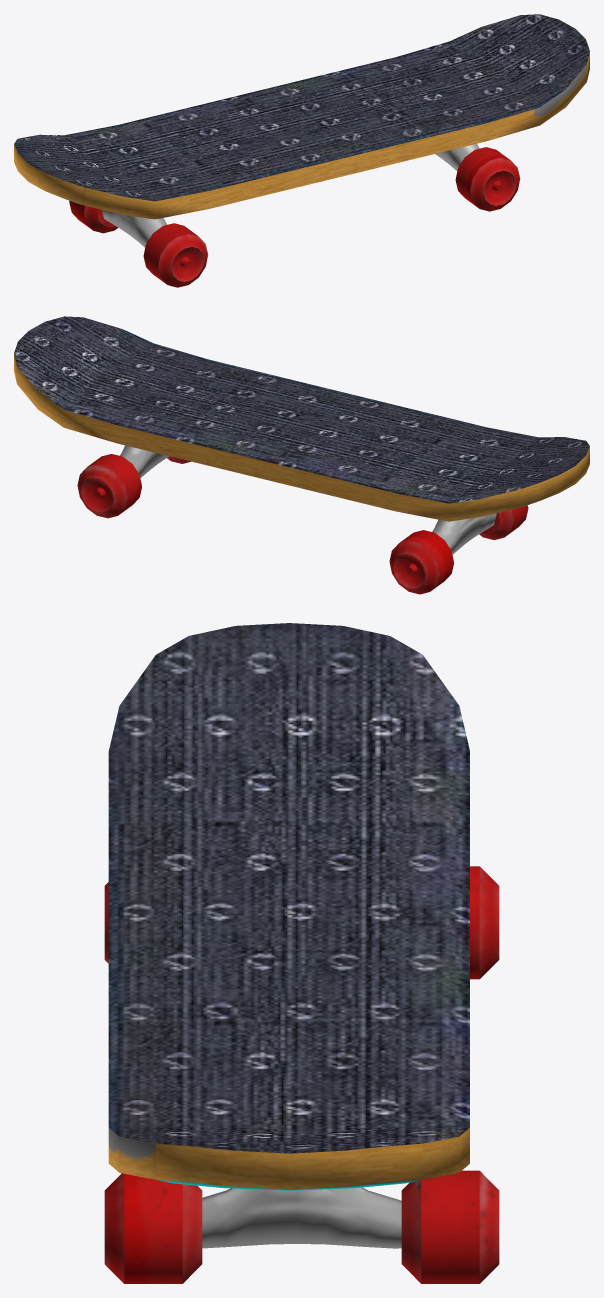
Rendered from Skateboard.FBX.
The picture shows the model from 3 angles, top to bottom: view 1: azimuth 30°, elevation 25°; view 2: azimuth 150°, elevation 25°; view 3: azimuth 270°, elevation 25°; orthographic projection. The views are drawn at different scales.
Visible parts, largest first — view 1: Box001; view 2: Box001; view 3: Box001.
Boxes of the visible parts, <box> form: Box001: <box>14,14,589,287</box>; Box001: <box>14,316,589,594</box>; Box001: <box>104,623,499,1283</box>.
Bounding box in the file's own units: 84.9 × 18.05 × 26.52.
